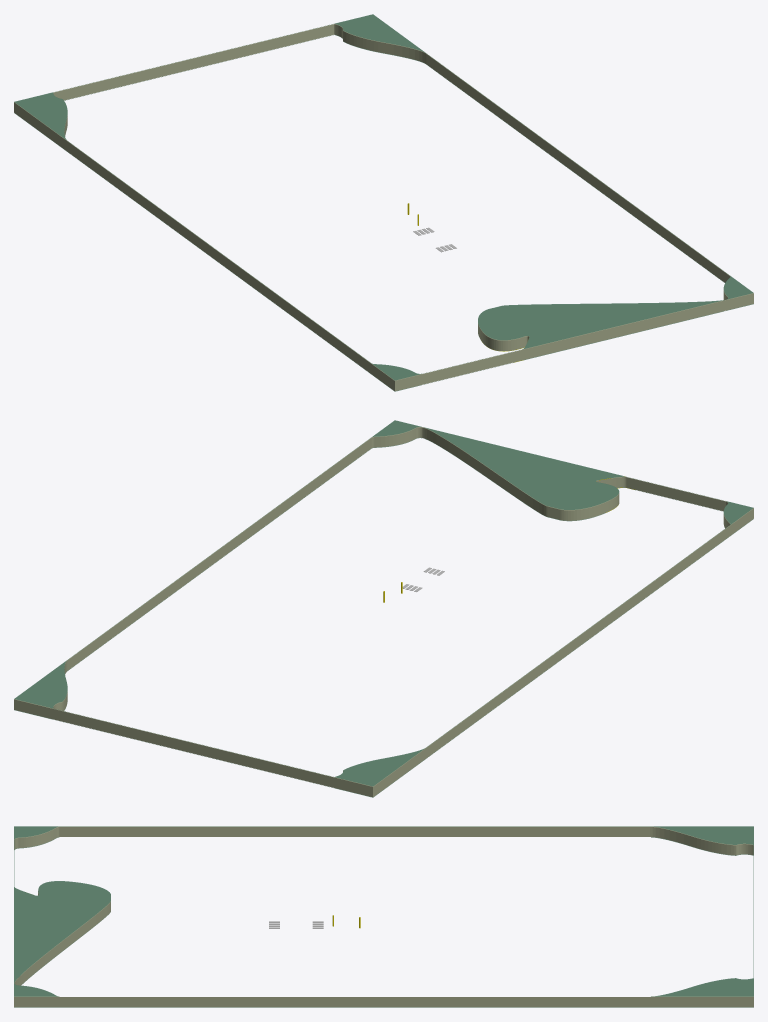
File: carolinacon-online-3-badge-carolinacon-19-badge.glb
The picture shows the model from 3 angles, top to bottom: view 1: azimuth 30°, elevation 25°; view 2: azimuth 150°, elevation 25°; view 3: azimuth 270°, elevation 25°; orthographic projection. The views are drawn at different scales.
Parts seen in each view (by area): view 1: =>[0:1:1:7], =>[0:1:1:5]; view 2: =>[0:1:1:7], =>[0:1:1:5]; view 3: =>[0:1:1:7], =>[0:1:1:5].
Part boxes in pixels (x1,y1,x2,y2): =>[0:1:1:7]: [14, 15, 753, 391]; =>[0:1:1:5]: [14, 14, 753, 391]; =>[0:1:1:7]: [14, 421, 753, 797]; =>[0:1:1:5]: [14, 420, 753, 797]; =>[0:1:1:7]: [14, 826, 753, 1007]; =>[0:1:1:5]: [14, 826, 753, 1007].
Size of the model in its own units: 0.0541 by 0.00161 by 0.0994.
